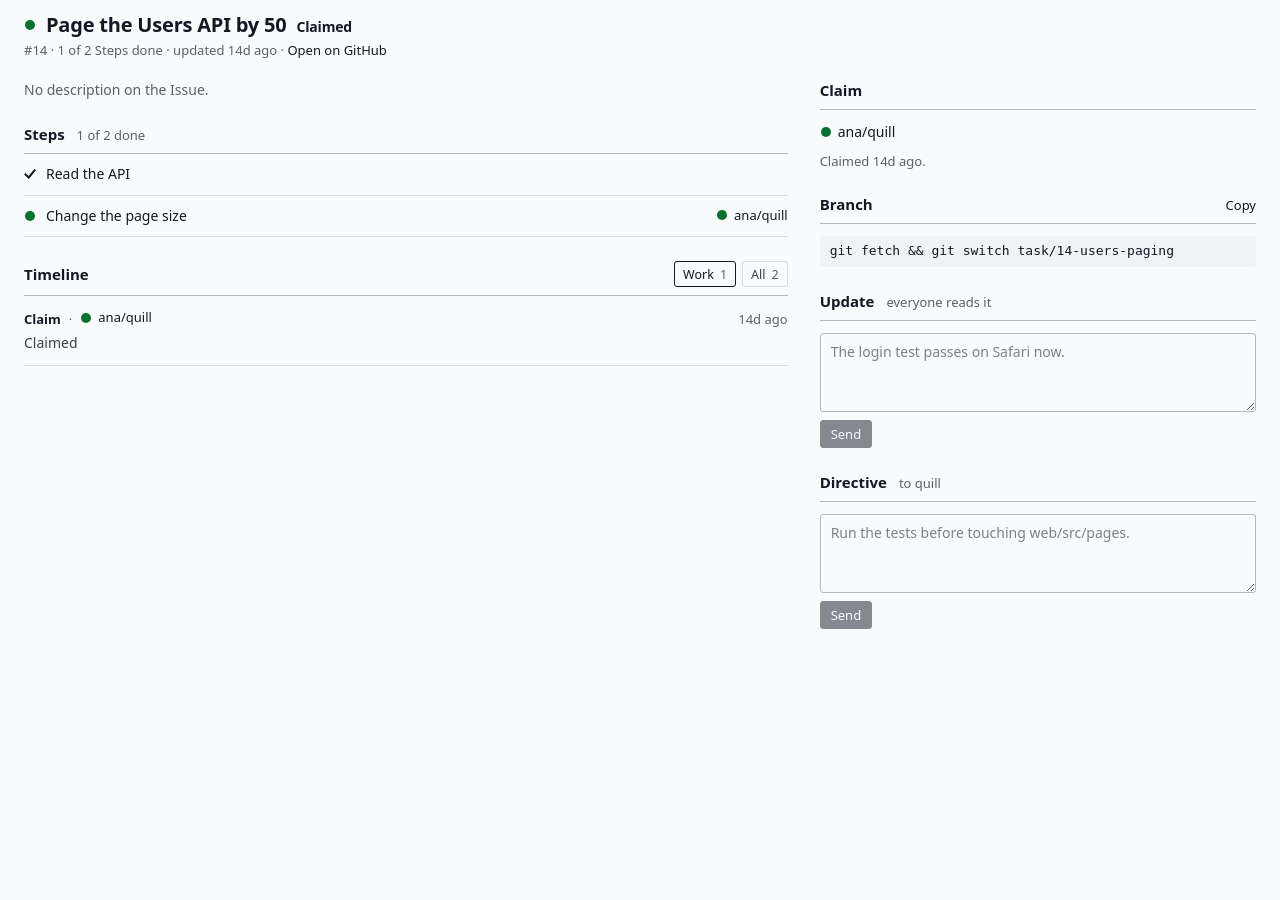
a Task's page › shows the Task's work on the Timeline, and everything with All
This screenshot has width=1280, height=900.
Expected: the text "Claimed" below "Timeline" is shown, [24,333,78,352]
Expected: the text "Edited web/src/users.tsx" is not shown
Click the button "All 2".
click(765, 274)  # box [742,262,788,288]
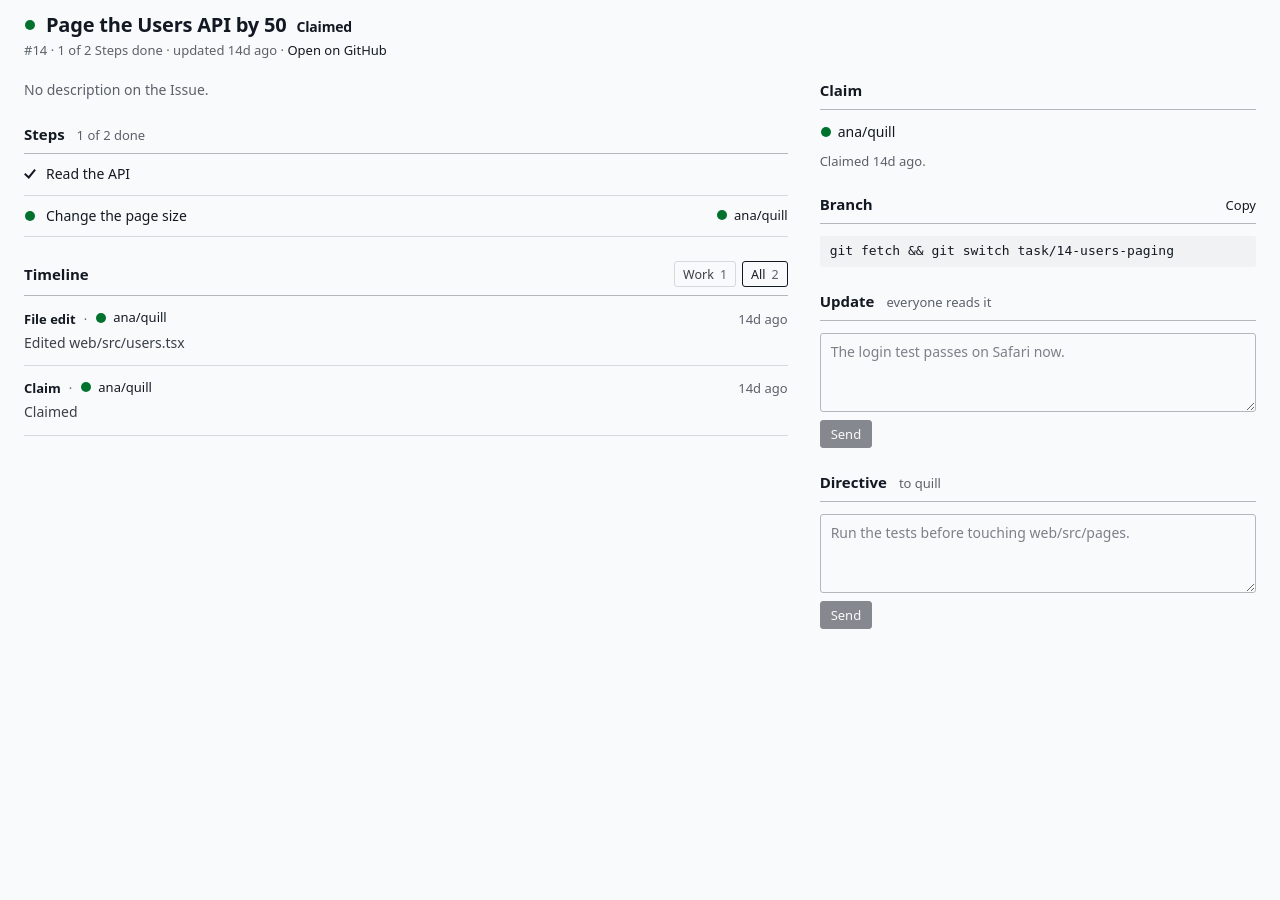
Result: the text "Edited web/src/users.tsx" is shown at [24,333,185,352]
